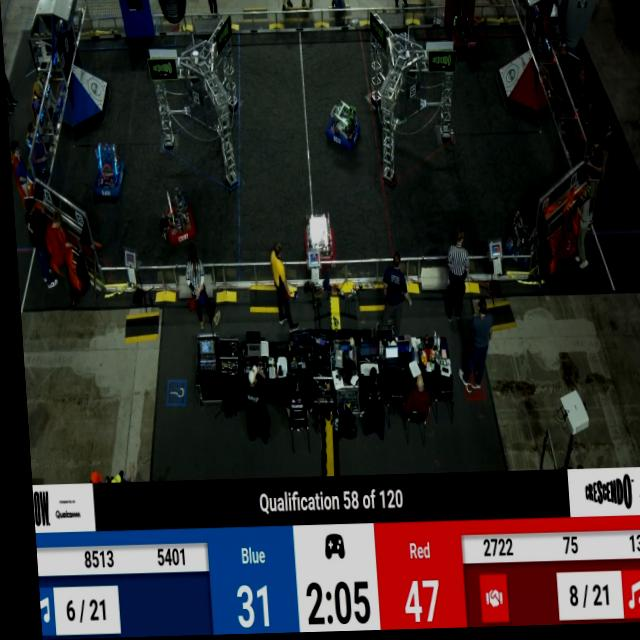Robot: (495, 198, 545, 283), (295, 205, 338, 271), (155, 185, 194, 250), (90, 140, 127, 200), (322, 102, 360, 157), (445, 0, 479, 54)
